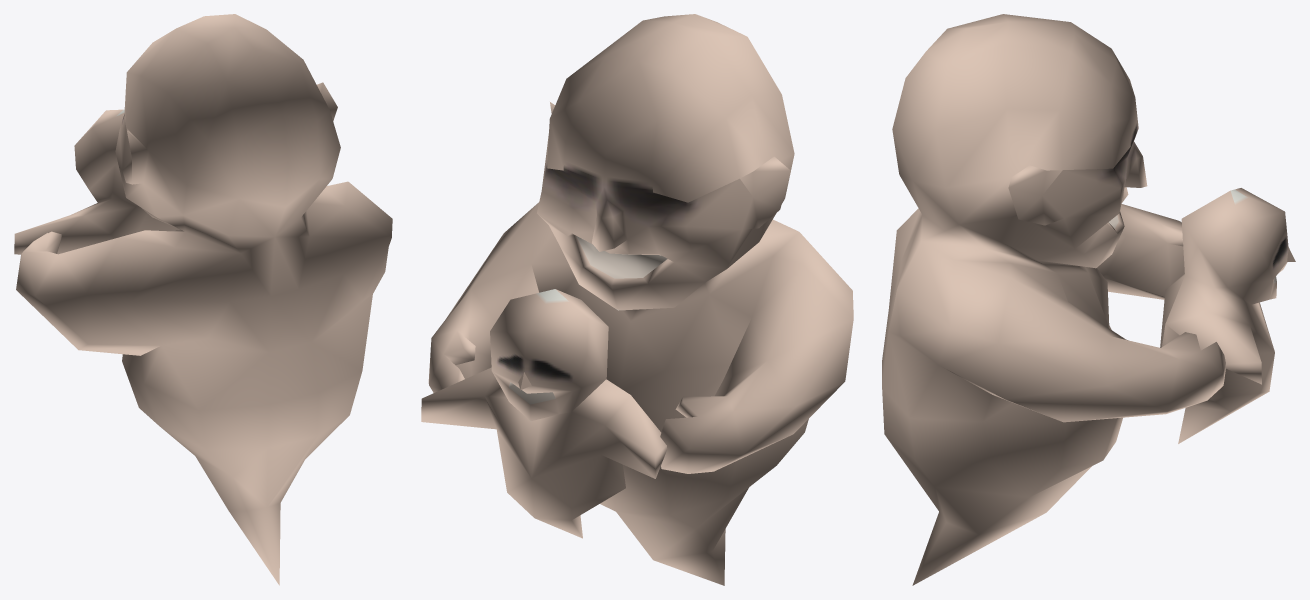
Rendered from copy.bin.obj.
3 renders of one model, left to right at view 1: azimuth 30°, elevation 25°; view 2: azimuth 150°, elevation 25°; view 3: azimuth 270°, elevation 25°, orthographic. The views are drawn at different scales.
Bounding box in the file's own units: 2.96 × 4.83 × 3.21.
1 material, 1 textured.
